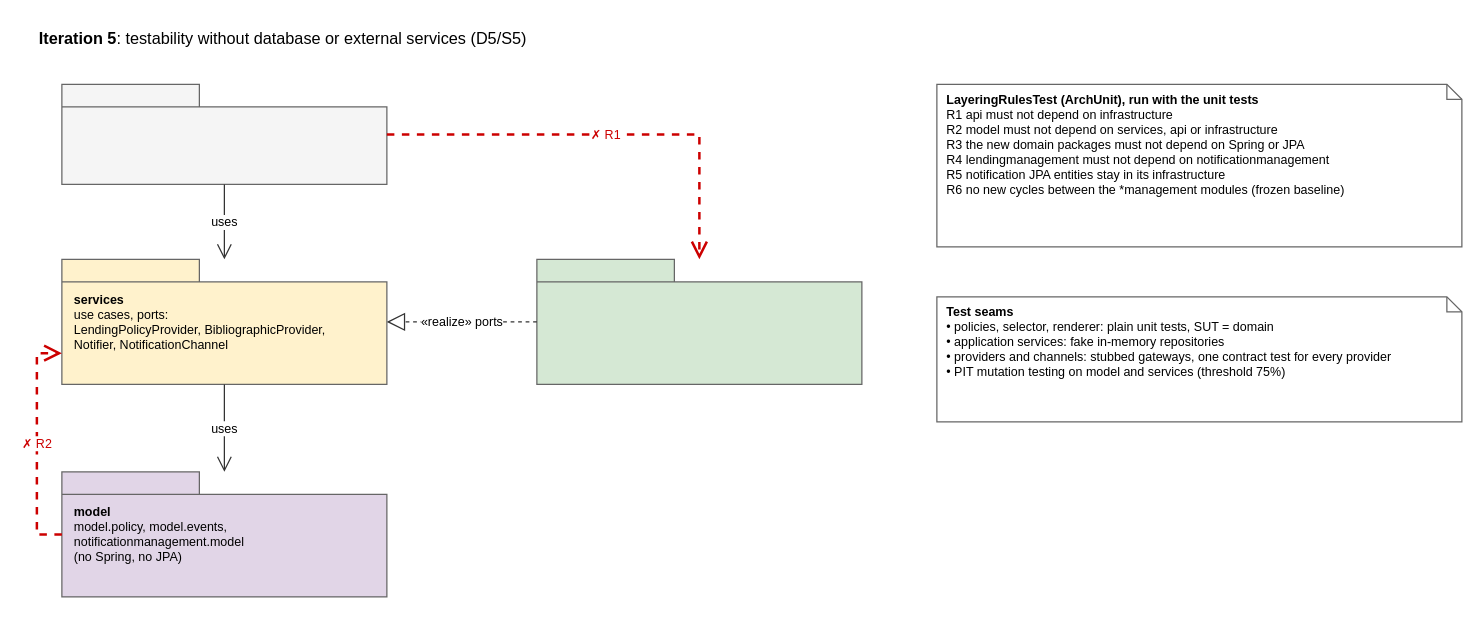
This 1484x619 diagram has some shape labels left out. Each missing label, with the box of its shape:
api controllers, views, mappers: (61, 83, 387, 184)
infrastructure repositories, provider adapters, channels, JPA entities: (536, 258, 862, 384)
